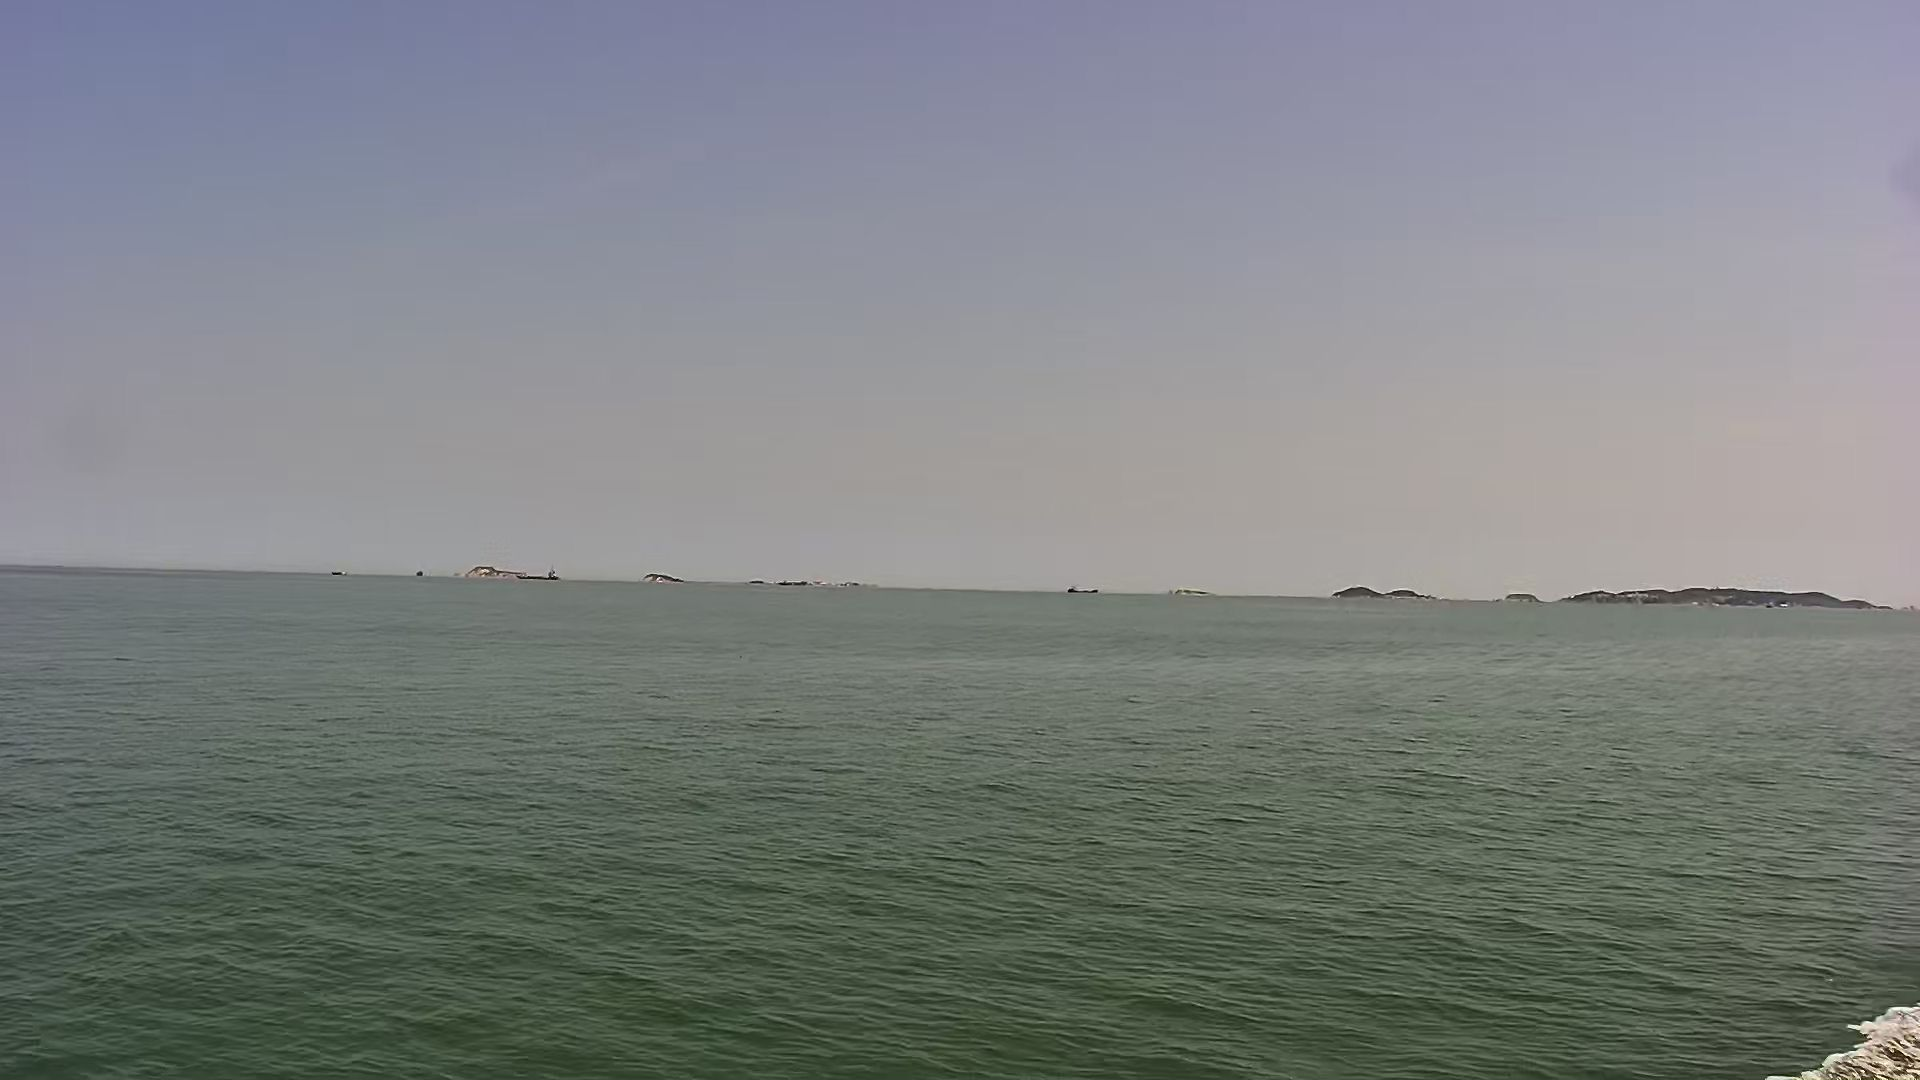rock: (1506, 583, 1902, 617), (1327, 582, 1447, 605), (459, 560, 567, 583)
